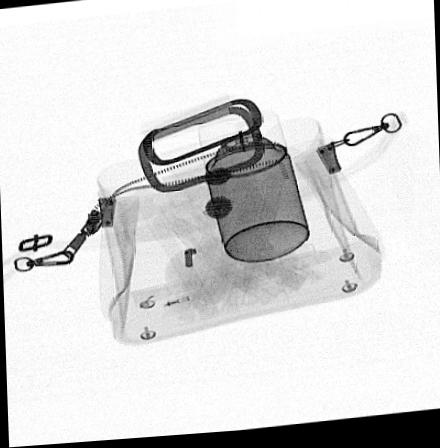Sprayer: (194, 112, 311, 267)
